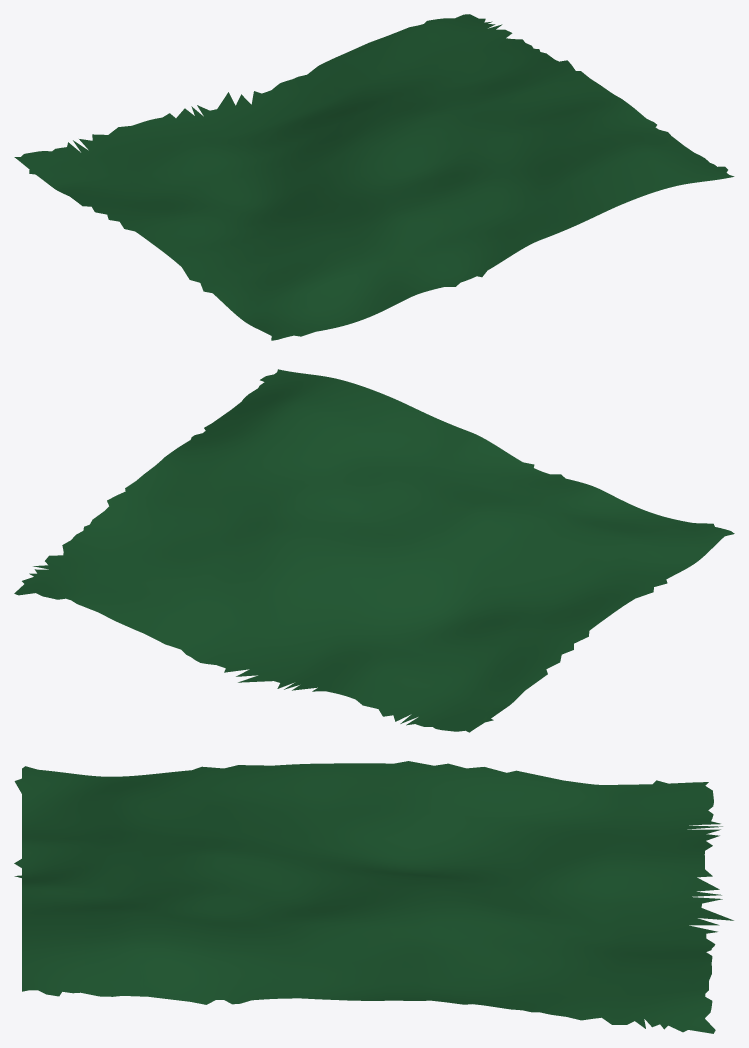
The model's file is payo_land_x3_y3.glb.
3 renders of one model, top to bottom at view 1: azimuth 30°, elevation 25°; view 2: azimuth 150°, elevation 25°; view 3: azimuth 270°, elevation 25°, orthographic. The views are drawn at different scales.
Parts seen in each view (by area): view 1: payo_land_x3_y3; view 2: payo_land_x3_y3; view 3: payo_land_x3_y3.
Part boxes in pixels (x1,y1,x2,y2): payo_land_x3_y3: (14,14,734,340); payo_land_x3_y3: (14,369,734,732); payo_land_x3_y3: (14,761,733,1033).
Size of the model in its own units: 262 by 41.17 by 268.
